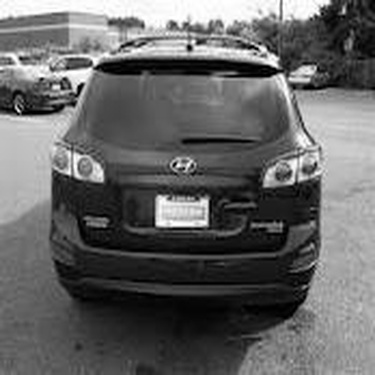car: (45, 31, 330, 320), (45, 53, 113, 106), (1, 70, 73, 114), (287, 55, 331, 89), (3, 46, 40, 74)
